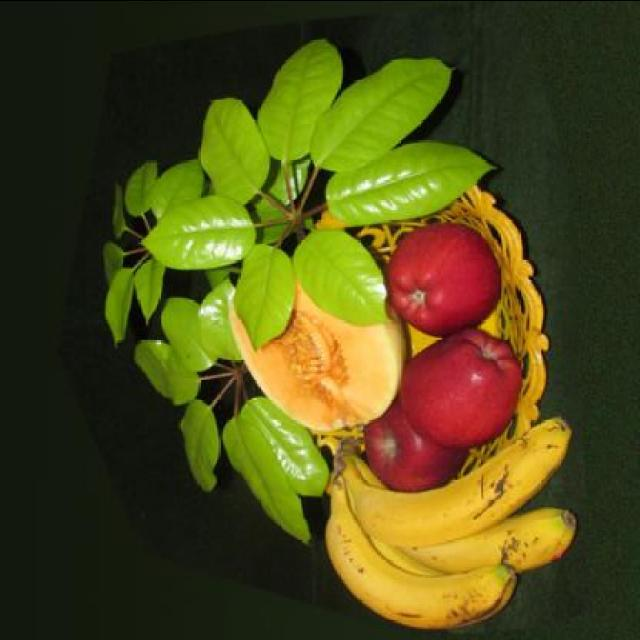Apple pie: (399, 327, 521, 445), (392, 222, 510, 342), (360, 399, 464, 493)
